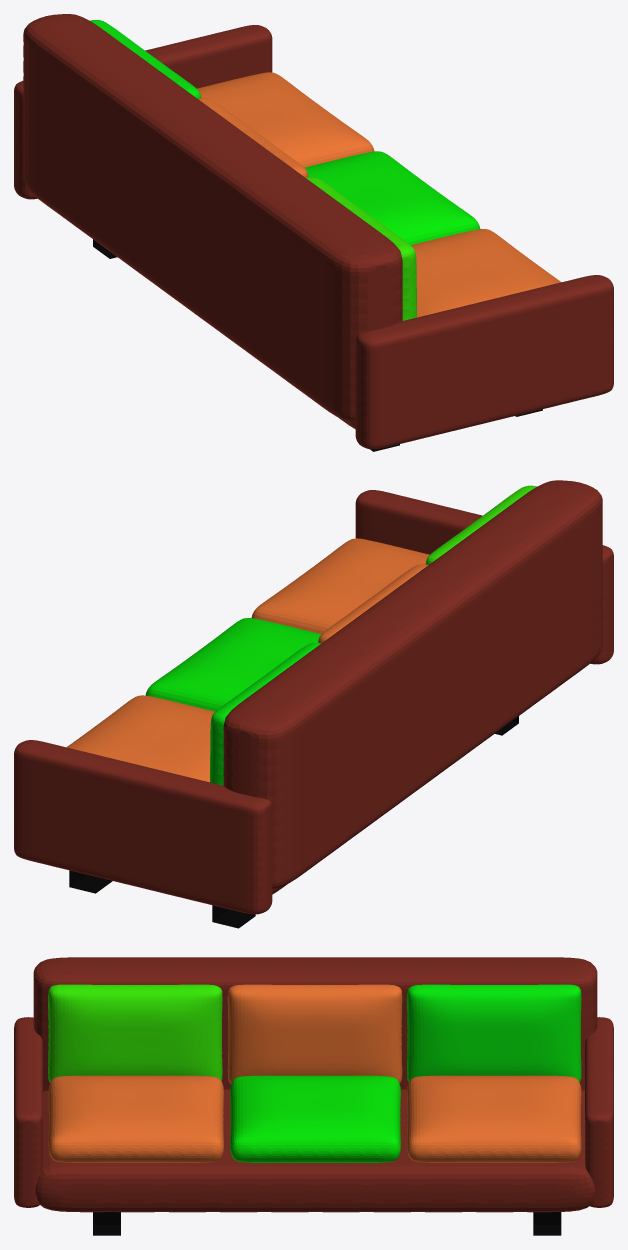
File: couch.fbx
3 views of the same model, one above another, from view 1: azimuth 30°, elevation 25°; view 2: azimuth 150°, elevation 25°; view 3: azimuth 270°, elevation 25° (orthographic). The views are drawn at different scales.
Parts seen in each view (by area): view 1: Cube; view 2: Cube; view 3: Cube.
Part boxes in pixels (box(x1,y1,x2,y2)): Cube: box(14, 14, 613, 451); Cube: box(14, 480, 613, 928); Cube: box(14, 957, 613, 1235).
Bounding box in the file's own units: 356 × 292 × 837.
